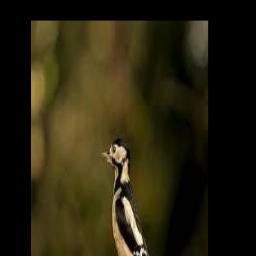Woodpecker: (100, 139, 152, 256)
